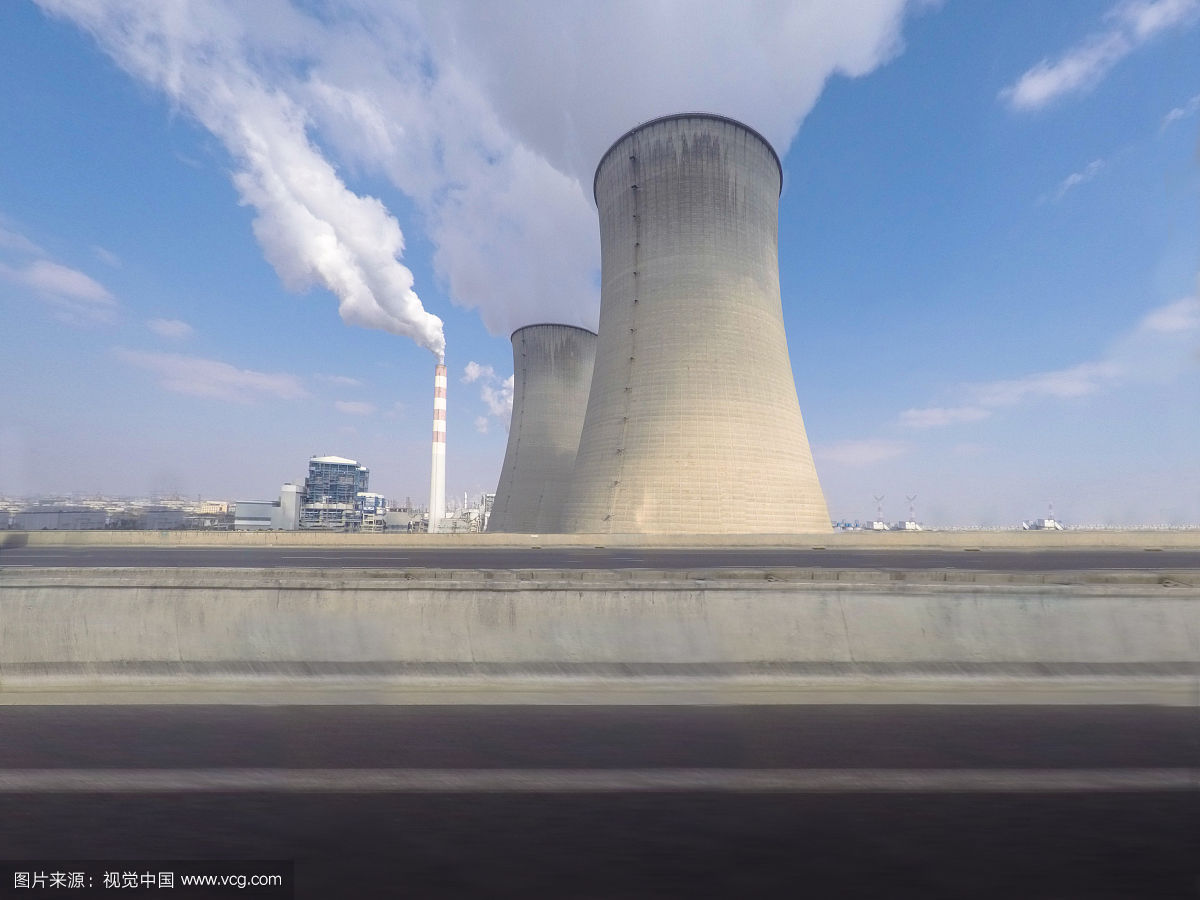dust: (199, 60, 462, 379), (399, 1, 913, 153)
